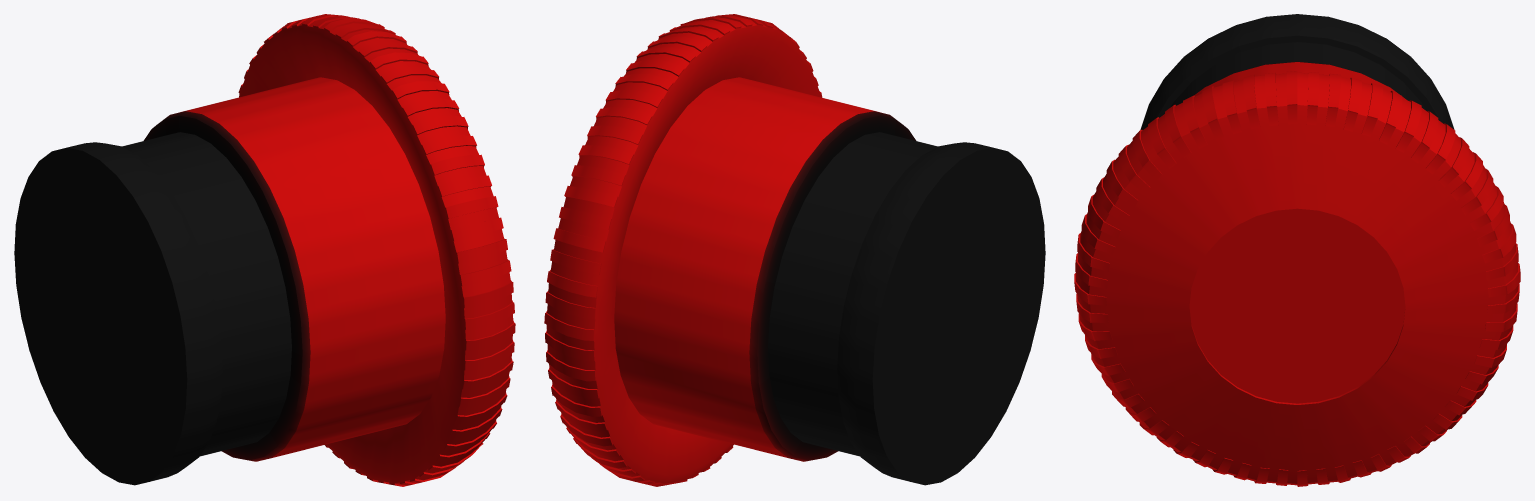
The model's file is EmergencyButton.fbx.
3 renders of one model, left to right at view 1: azimuth 30°, elevation 25°; view 2: azimuth 150°, elevation 25°; view 3: azimuth 270°, elevation 25°, orthographic. The views are drawn at different scales.
Visible parts, largest first — view 1: Button, ButtonBack; view 2: Button, ButtonBack; view 3: Button, ButtonBack.
Boxes of the visible parts, box(x1,y1,x2,y2) form: Button: box(143, 14, 515, 486); ButtonBack: box(14, 132, 291, 485); Button: box(544, 14, 916, 486); ButtonBack: box(768, 132, 1045, 485); Button: box(1074, 61, 1520, 486); ButtonBack: box(1140, 14, 1454, 129).
Size of the model in its own units: 0.1432 by 0.1805 by 0.1804.
